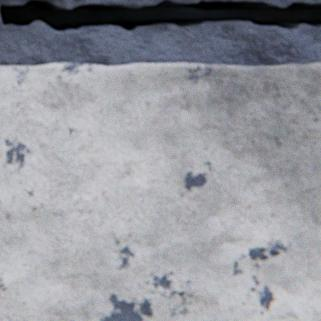brick: (0, 62, 320, 320)
crack: (0, 0, 320, 31)
